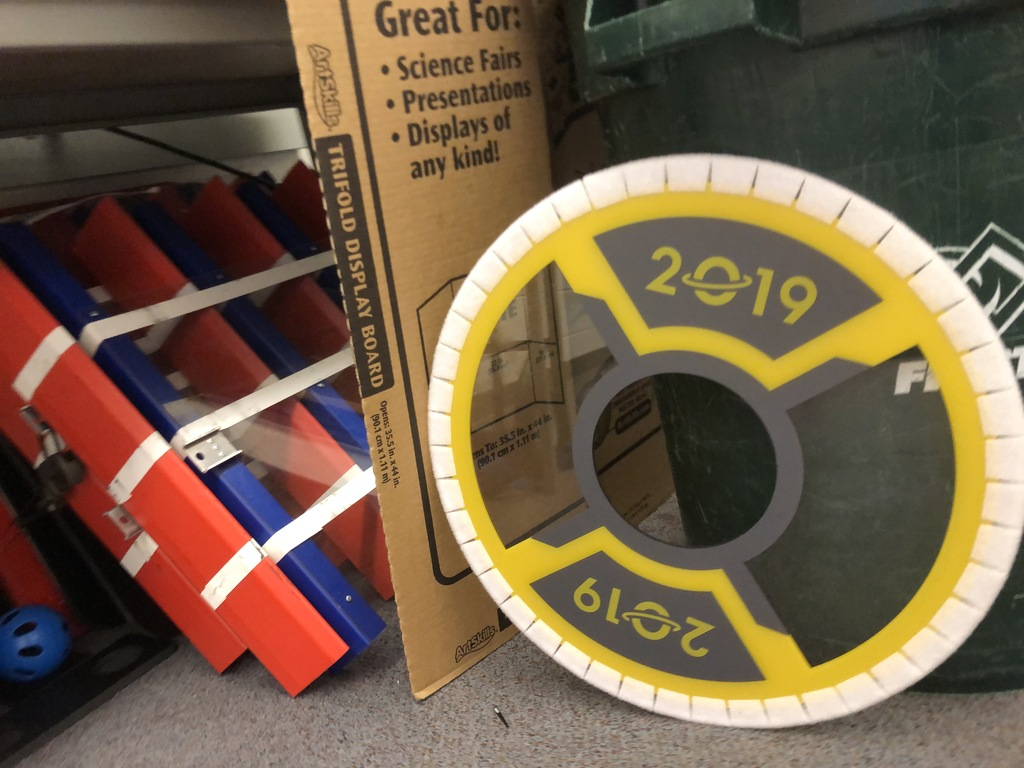hatch_panel: (411, 140, 1024, 738)
